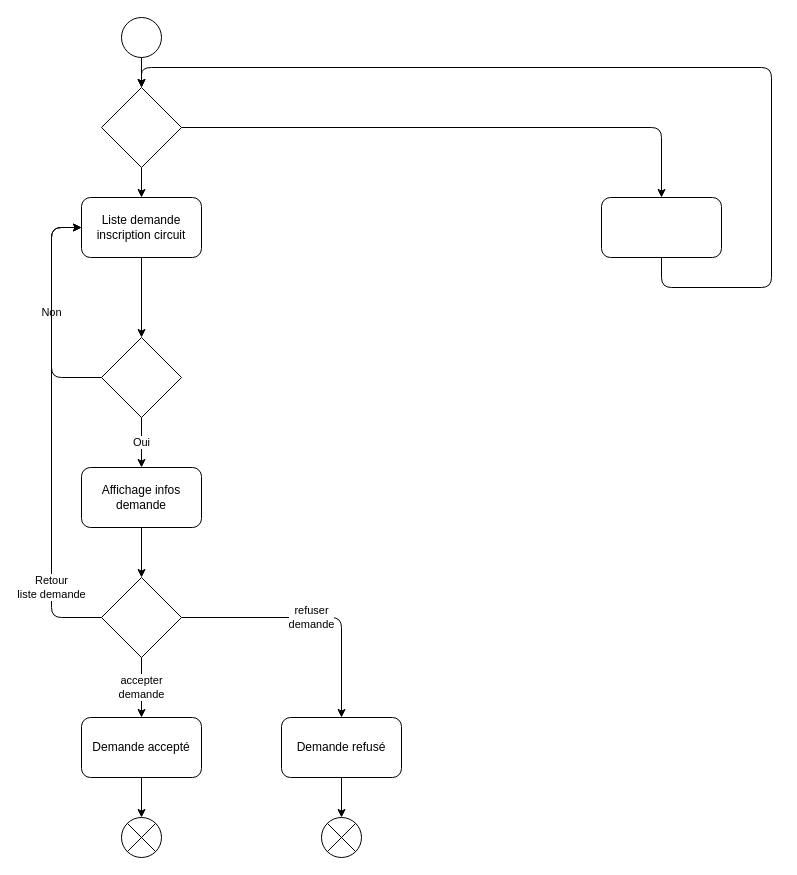
The diagram is 797 pixels wide and 875 high, and some of its shapes have lost their labels. Each missing label, with the centre of its shape:
Liste circuits authorisés événement: pixel 661 227
Selection demande: pixel 141 377
